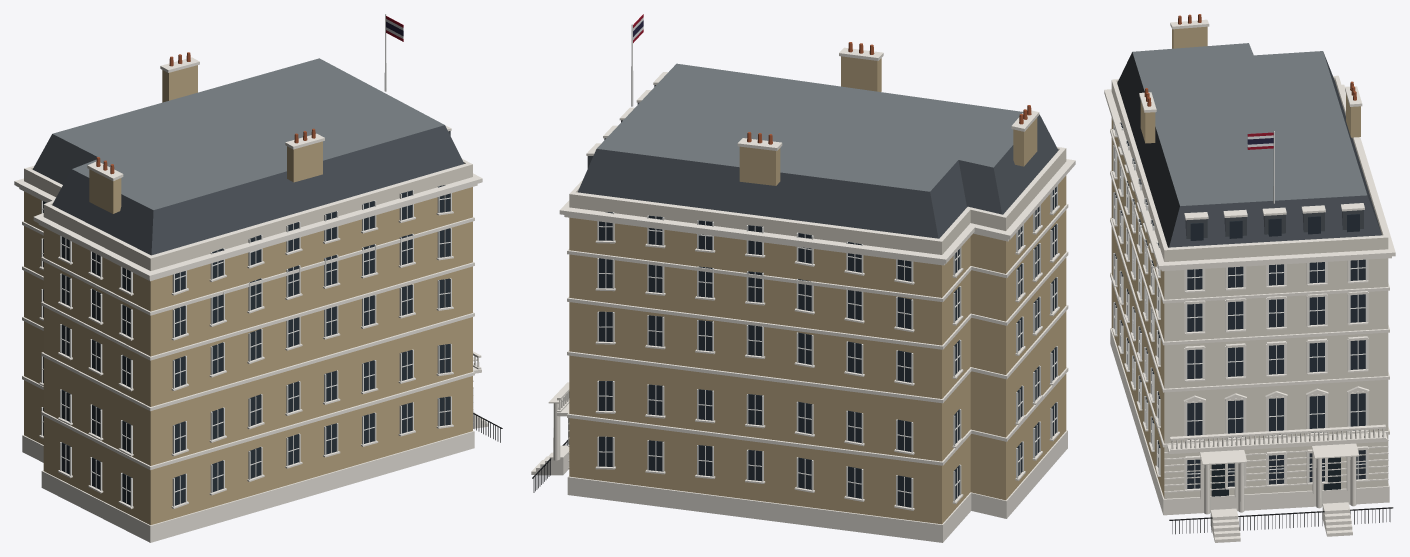
File: royal_thai_embassy.glb
3 views of the same model, side by side, from view 1: azimuth 30°, elevation 25°; view 2: azimuth 150°, elevation 25°; view 3: azimuth 270°, elevation 25° (orthographic). The views are drawn at different scales.
Size of the model in its own units: 31.76 by 29.03 by 20.18.
